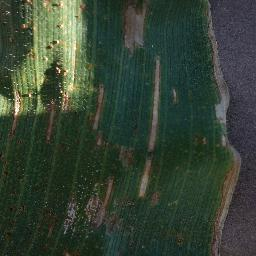Gray_Leaf_Spot: (120, 0, 152, 49), (63, 191, 83, 256), (37, 202, 61, 249), (9, 81, 27, 136), (1, 220, 33, 244), (86, 189, 106, 227), (118, 141, 138, 173), (107, 212, 134, 233), (90, 175, 121, 193), (208, 37, 224, 71), (53, 56, 71, 86), (216, 94, 230, 127), (1, 203, 31, 218), (143, 147, 155, 183), (46, 101, 55, 148), (215, 69, 231, 95), (59, 88, 74, 115), (0, 153, 11, 189), (150, 83, 162, 115), (149, 112, 160, 146), (22, 40, 38, 63), (217, 190, 235, 210), (207, 3, 217, 38), (88, 105, 100, 134), (223, 171, 241, 190), (213, 210, 230, 230), (113, 195, 138, 208), (93, 131, 110, 150), (221, 124, 234, 148), (211, 234, 225, 255), (95, 81, 105, 107), (0, 8, 12, 29), (152, 56, 161, 84), (150, 190, 164, 208), (229, 149, 241, 169), (31, 179, 46, 195), (62, 38, 77, 54), (18, 14, 32, 31), (45, 36, 60, 51), (171, 237, 190, 248), (172, 83, 180, 107), (70, 177, 89, 187), (7, 32, 20, 45), (194, 132, 206, 146), (82, 160, 96, 172), (139, 181, 147, 199), (63, 141, 71, 159), (15, 137, 28, 147), (77, 2, 88, 13), (55, 19, 66, 30), (41, 53, 51, 65), (15, 165, 24, 178), (8, 189, 21, 198), (24, 0, 36, 9), (82, 61, 94, 70), (85, 231, 95, 241), (55, 1, 67, 9), (125, 50, 135, 59), (165, 200, 180, 206), (124, 241, 136, 248), (131, 122, 139, 132), (41, 0, 48, 11), (28, 89, 37, 97), (140, 244, 148, 253), (73, 10, 79, 20), (77, 135, 82, 146)
